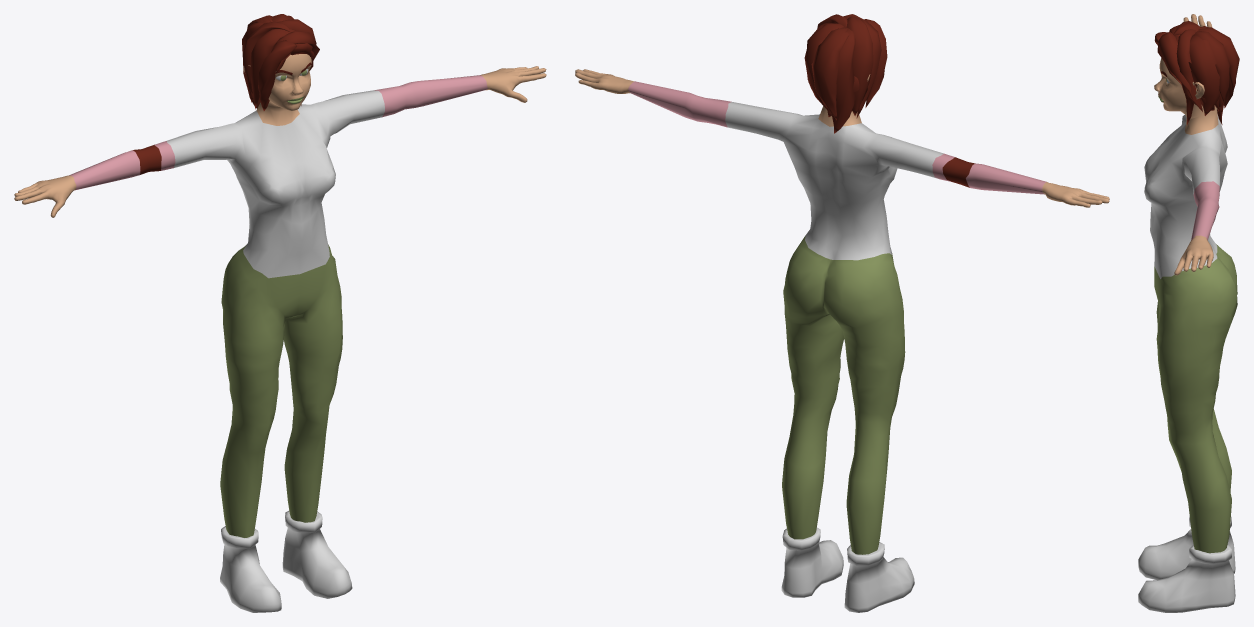
Rendered from MULHER_FREE (1).fbx.
3 renders of one model, left to right at view 1: azimuth 30°, elevation 25°; view 2: azimuth 150°, elevation 25°; view 3: azimuth 270°, elevation 25°, orthographic.
Parts seen in each view (by area): view 1: Mesh.002; view 2: Mesh.002; view 3: Mesh.002.
Part boxes in pixels (x1,y1,x2,y2): Mesh.002: (14,14,546,612); Mesh.002: (575,14,1109,612); Mesh.002: (1138,14,1239,612).
Bounding box in the file's own units: 180 × 184 × 30.22.
